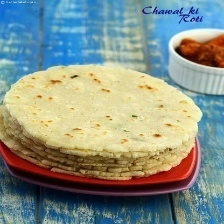sabzi: (168, 27, 224, 70)
